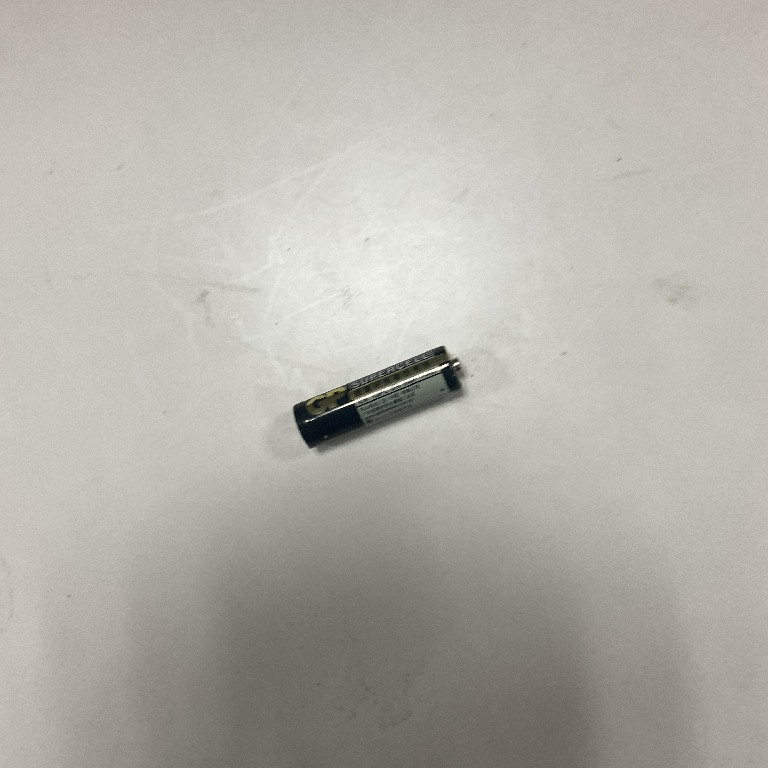charge: (290, 340, 467, 453)
